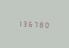eight: (38, 20, 42, 28)
one: (17, 19, 21, 27)
seven: (33, 19, 37, 28)
six: (28, 19, 32, 27)
three: (22, 19, 26, 27)
zero: (43, 20, 47, 28)
